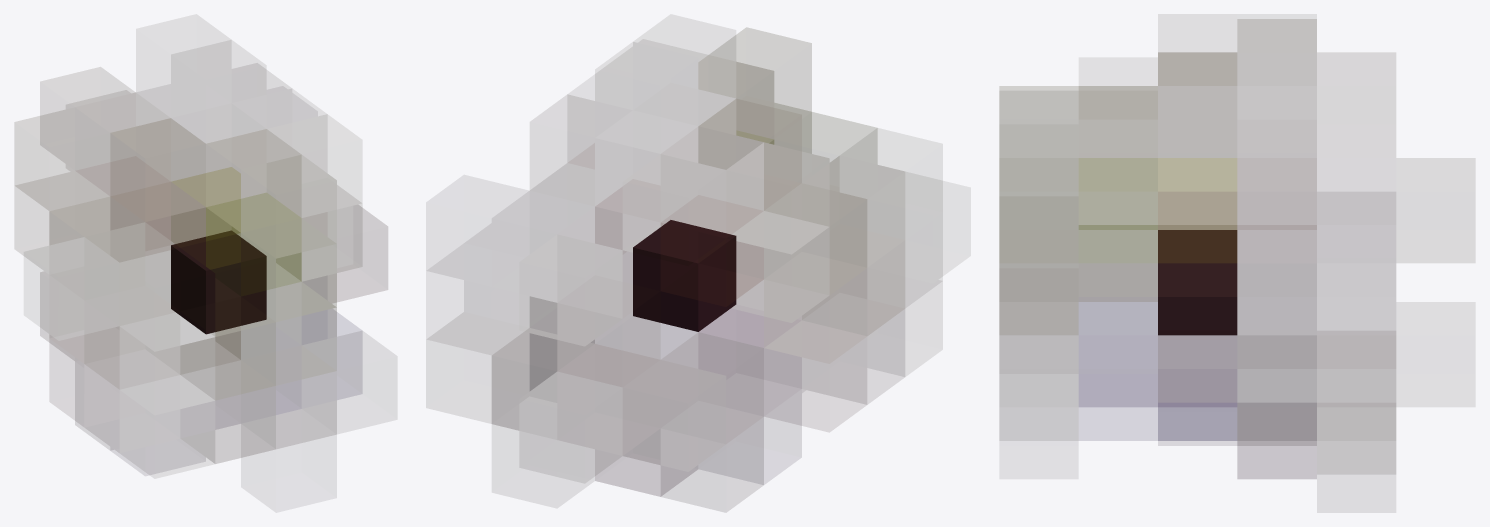
The model's file is iter_5.obj.
The picture shows the model from 3 angles, left to right: view 1: azimuth 30°, elevation 25°; view 2: azimuth 150°, elevation 25°; view 3: azimuth 270°, elevation 25°; orthographic projection. The views are drawn at different scales.
Visible parts, largest first — view 1: iter_5; view 2: iter_5; view 3: iter_5.
Boxes of the visible parts, box(x1,y1,x2,y2) form: iter_5: box(15, 40, 387, 475); iter_5: box(427, 28, 942, 511); iter_5: box(999, 19, 1396, 478).
Size of the model in its own units: 0.6 by 0.6 by 0.6.
